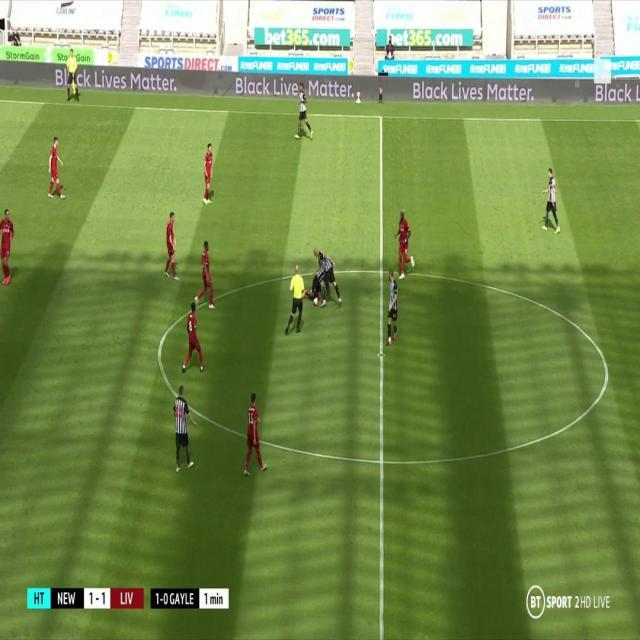ball: (313, 297, 319, 307)
player: (172, 383, 201, 477), (243, 392, 271, 479), (182, 301, 210, 376), (314, 242, 344, 310), (393, 209, 419, 284), (195, 239, 218, 312), (539, 166, 561, 237), (164, 207, 183, 286), (381, 269, 400, 345), (0, 205, 17, 288), (47, 134, 67, 204), (293, 81, 314, 142), (202, 142, 218, 206), (301, 268, 327, 299)
referee: (286, 261, 308, 336), (65, 48, 82, 102)
